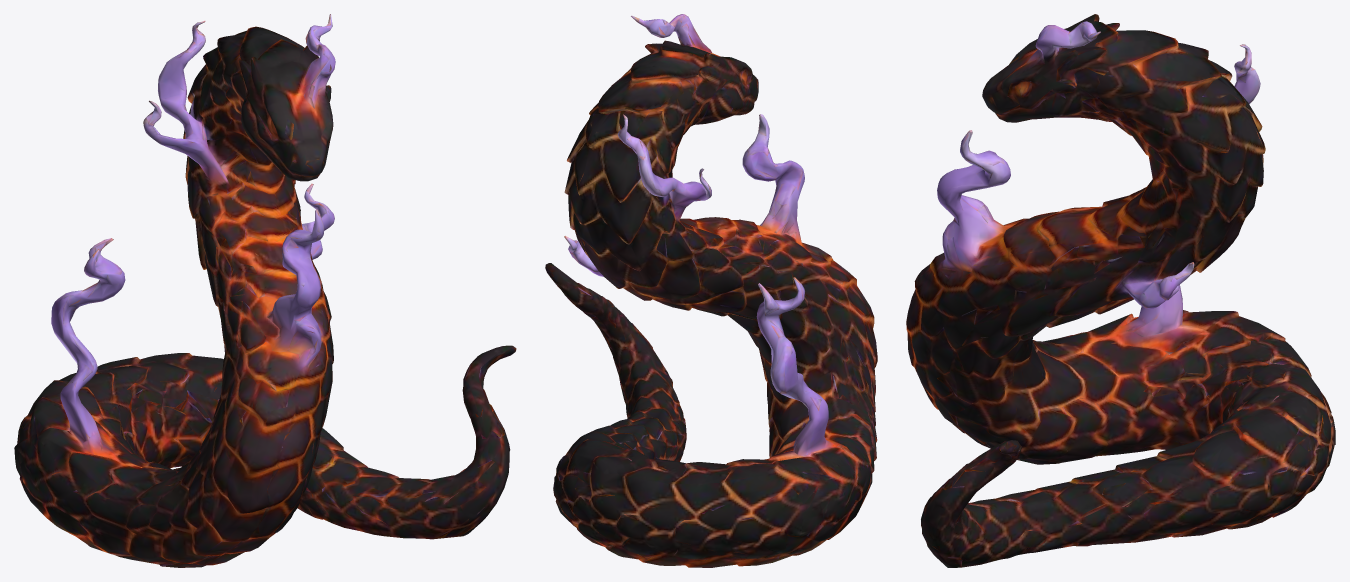
Rendered from devoreur_leviathan.glb.
The picture shows the model from 3 angles, left to right: view 1: azimuth 30°, elevation 25°; view 2: azimuth 150°, elevation 25°; view 3: azimuth 270°, elevation 25°; orthographic projection. The views are drawn at different scales.
Visible parts, largest first — view 1: Mesh_0; view 2: Mesh_0; view 3: Mesh_0.
Boxes of the visible parts, left/top/right/bottom form: Mesh_0: left=14, top=14, right=516, bottom=567; Mesh_0: left=545, top=14, right=877, bottom=567; Mesh_0: left=906, top=14, right=1335, bottom=567.
Bounding box in the file's own units: 1.65 × 1.9 × 1.46.
Materials: 1 (1 with a texture image).
